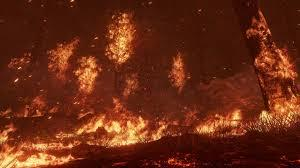fire: (4, 37, 100, 119), (246, 9, 300, 132), (55, 98, 178, 148), (1, 123, 81, 166), (180, 104, 250, 136), (102, 9, 138, 68), (166, 51, 192, 95), (120, 71, 144, 100)
